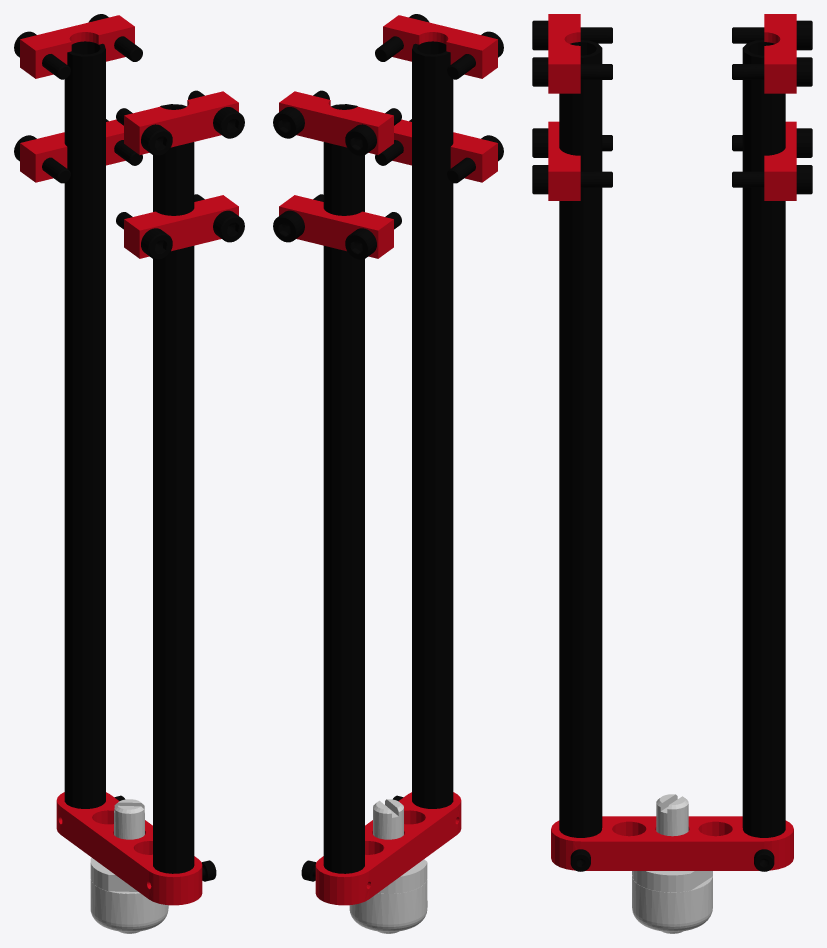
The model's file is end_leg.dae.
3 views of the same model, side by side, from view 1: azimuth 30°, elevation 25°; view 2: azimuth 150°, elevation 25°; view 3: azimuth 270°, elevation 25° (orthographic). The views are drawn at different scales.
Visible parts, largest first — view 1: end_leg_black_part, end_leg_red_part, end_leg_grey_part; view 2: end_leg_black_part, end_leg_red_part, end_leg_grey_part; view 3: end_leg_black_part, end_leg_red_part, end_leg_grey_part.
Boxes of the visible parts, x1,y1,x2,y2 form: end_leg_black_part: [14, 14, 244, 881]; end_leg_red_part: [20, 15, 238, 905]; end_leg_grey_part: [90, 799, 168, 933]; end_leg_black_part: [273, 14, 503, 881]; end_leg_red_part: [279, 15, 497, 905]; end_leg_grey_part: [349, 799, 427, 933]; end_leg_black_part: [532, 20, 812, 871]; end_leg_red_part: [548, 14, 796, 870]; end_leg_grey_part: [632, 794, 712, 933].
Size of the model in its own units: 0.022 by 0.052 by 0.1825.
